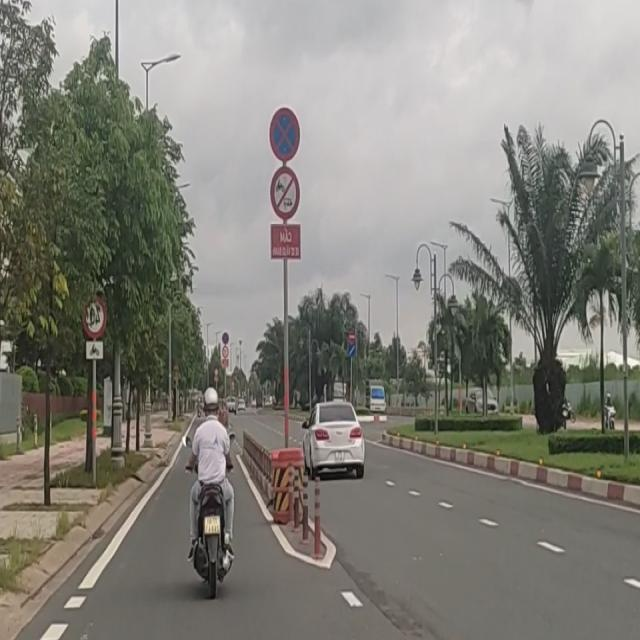P.111: (269, 162, 301, 218)
P.127*40: (83, 295, 109, 339)
P.130: (267, 104, 301, 161)
S.505a*Xe may: (85, 338, 107, 366)
